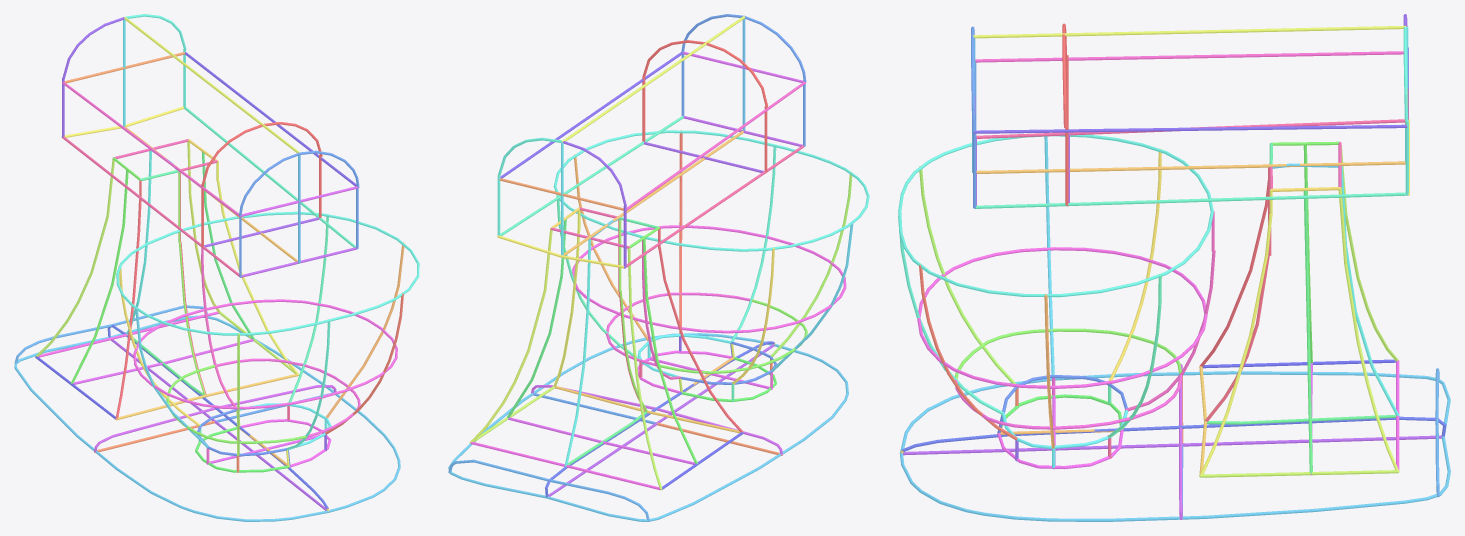
File: t2f_blender.gltf
The picture shows the model from 3 angles, left to right: view 1: azimuth 30°, elevation 25°; view 2: azimuth 150°, elevation 25°; view 3: azimuth 270°, elevation 25°; orthographic projection. The views are drawn at different scales.
Size of the model in its own units: 0.4703 by 0.5791 by 0.6761.
